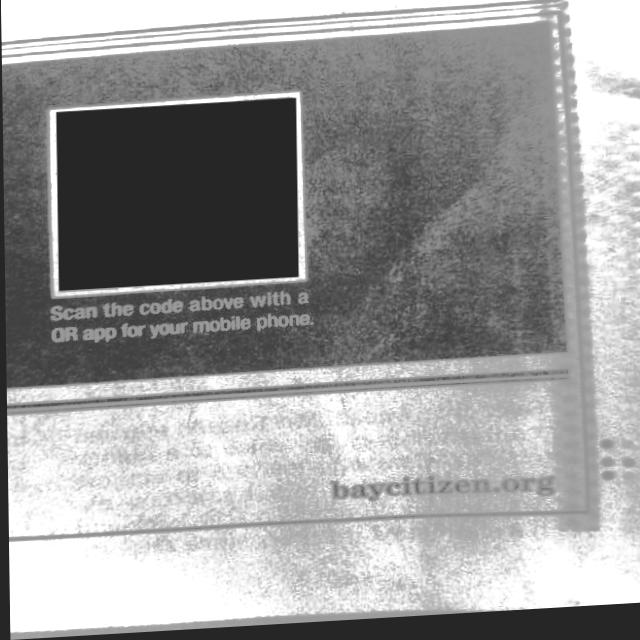qr_code: (55, 102, 296, 291)
